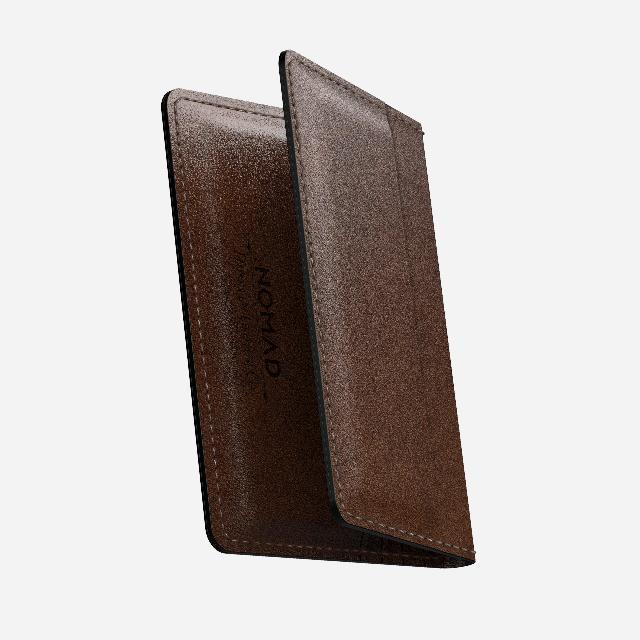wallet: (156, 44, 478, 572)
